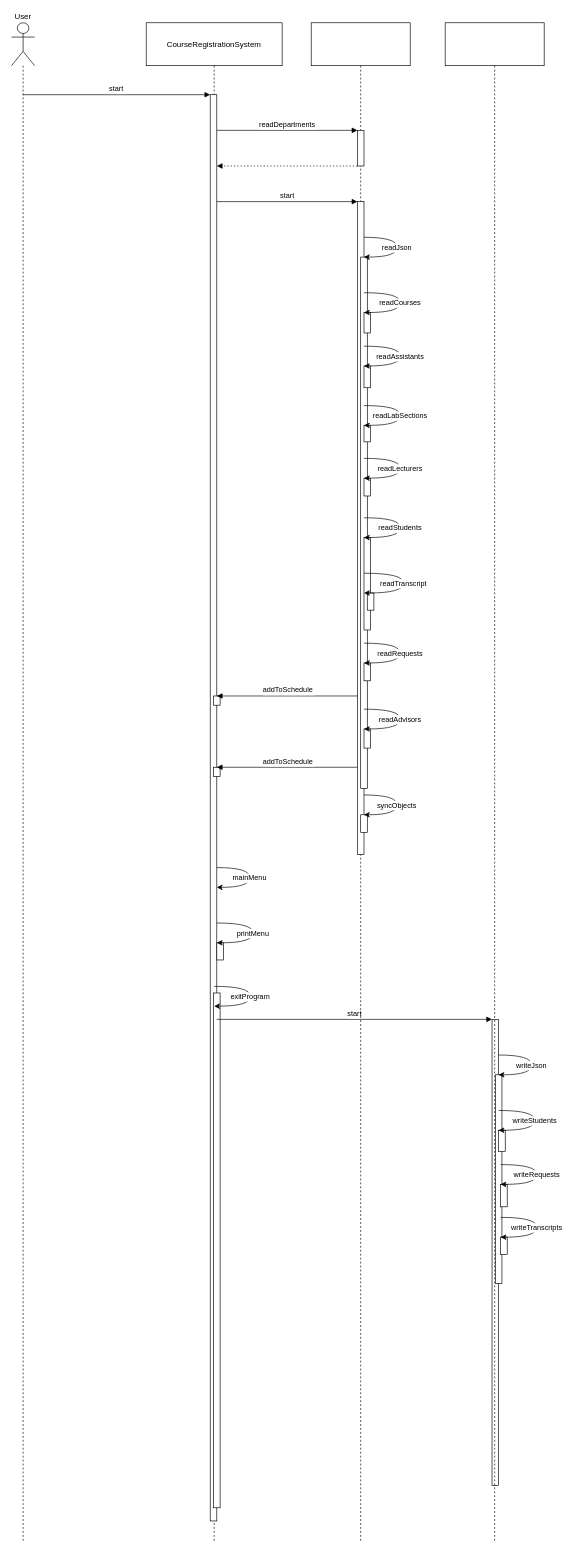
This 575x1552 diagram has some shape labels left out. Each missing label, with the box of its shape:
JSONReader: (311, 22, 410, 1541)
JSONWriter: (445, 22, 544, 1541)
